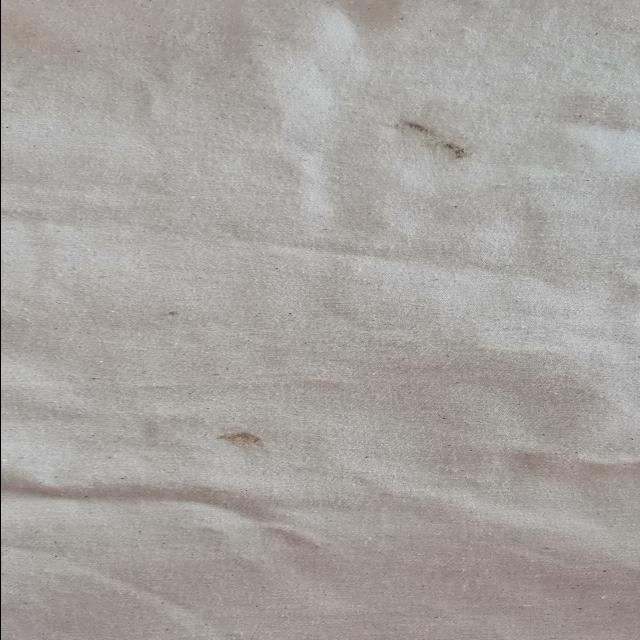taaaches: (371, 111, 491, 165), (195, 424, 287, 456)
